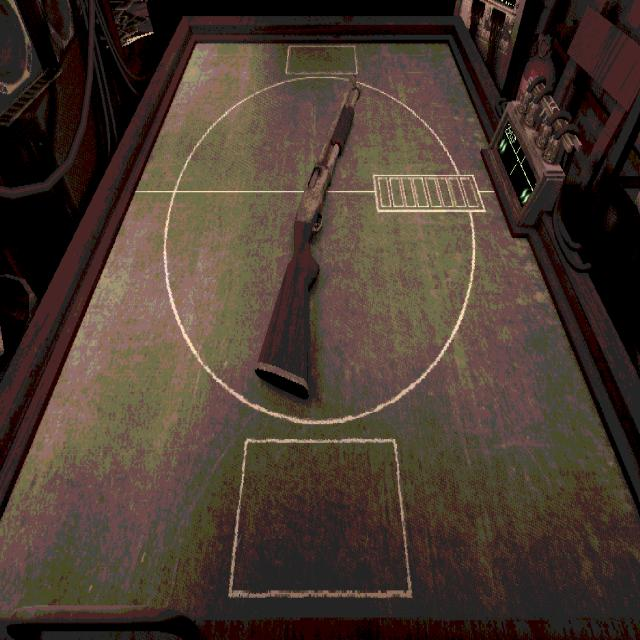gun: (255, 79, 361, 396)
